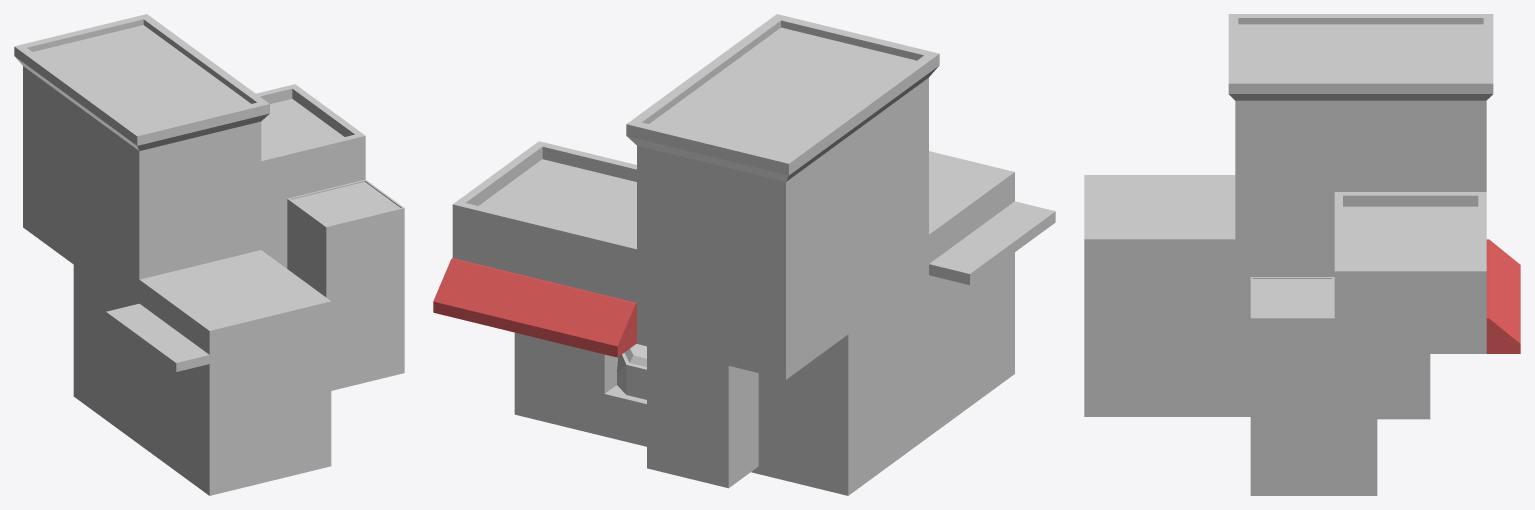
File: zoo pet roulette build.fbx
The picture shows the model from 3 angles, left to right: view 1: azimuth 30°, elevation 25°; view 2: azimuth 150°, elevation 25°; view 3: azimuth 270°, elevation 25°; orthographic projection. The views are drawn at different scales.
Parts seen in each view (by area): view 1: Building_30_1; view 2: Building_30_1, Building_30_1_3, shade, Building_30_1_2; view 3: Building_30_1, shade, Building_30_1_3.
Boxes of the visible parts, x1,y1,x2,y2 form: Building_30_1: (14,14,404,495); Building_30_1: (452,14,1055,495); Building_30_1_3: (647,346,758,488); shade: (433,258,636,357); Building_30_1_2: (617,344,646,399); Building_30_1: (1084,14,1493,495); shade: (1486,239,1520,353); Building_30_1_3: (1377,354,1430,419).
Size of the model in its own units: 54.23 by 52.86 by 62.23.
